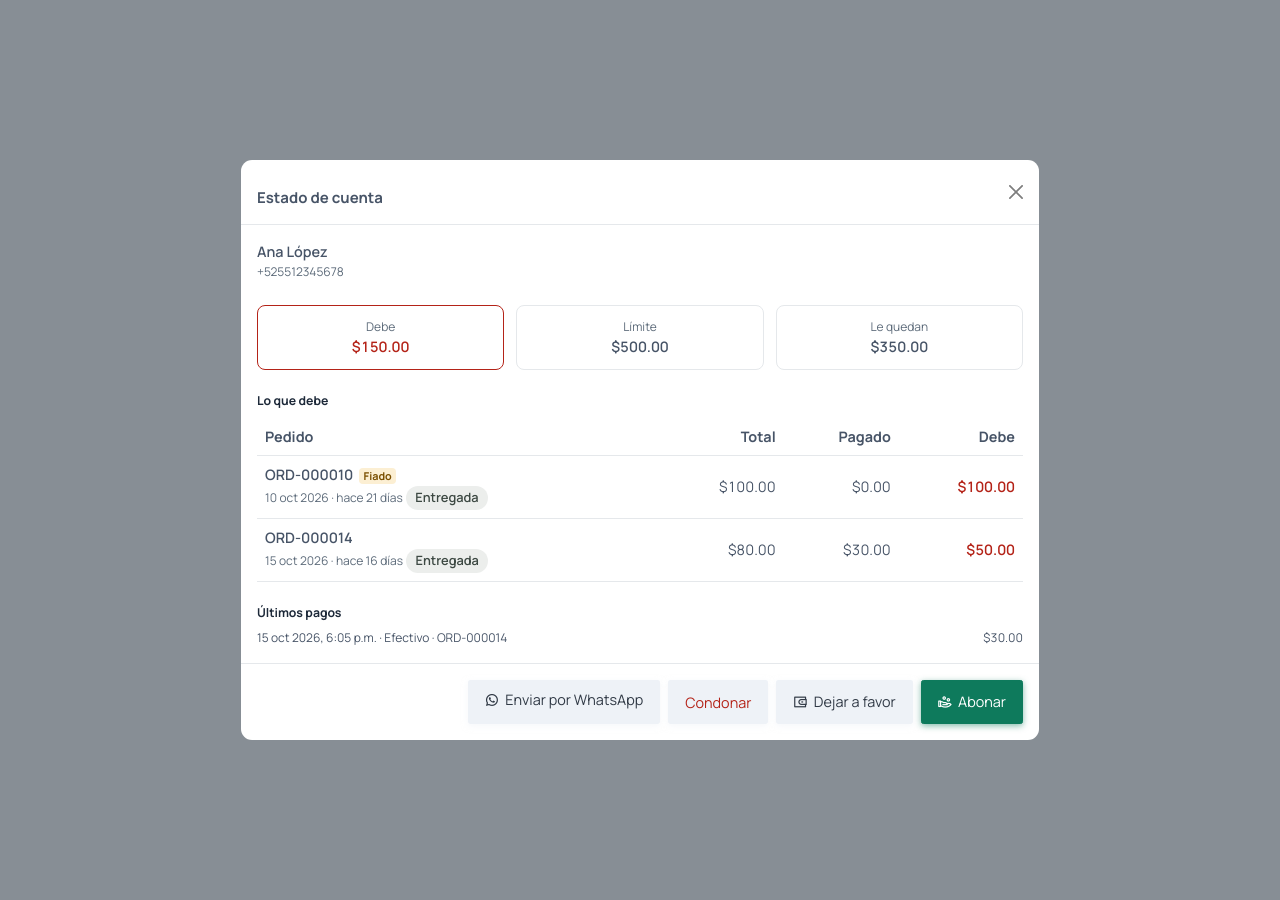
Test: CustomerAccountModal › sends what the account owed when the panel opened, so a retry after a lost answer never forgives twice
The image size is (1280, 900).
Click the button "Condonar" at coordinates (718, 702), box [668,680,768,724]
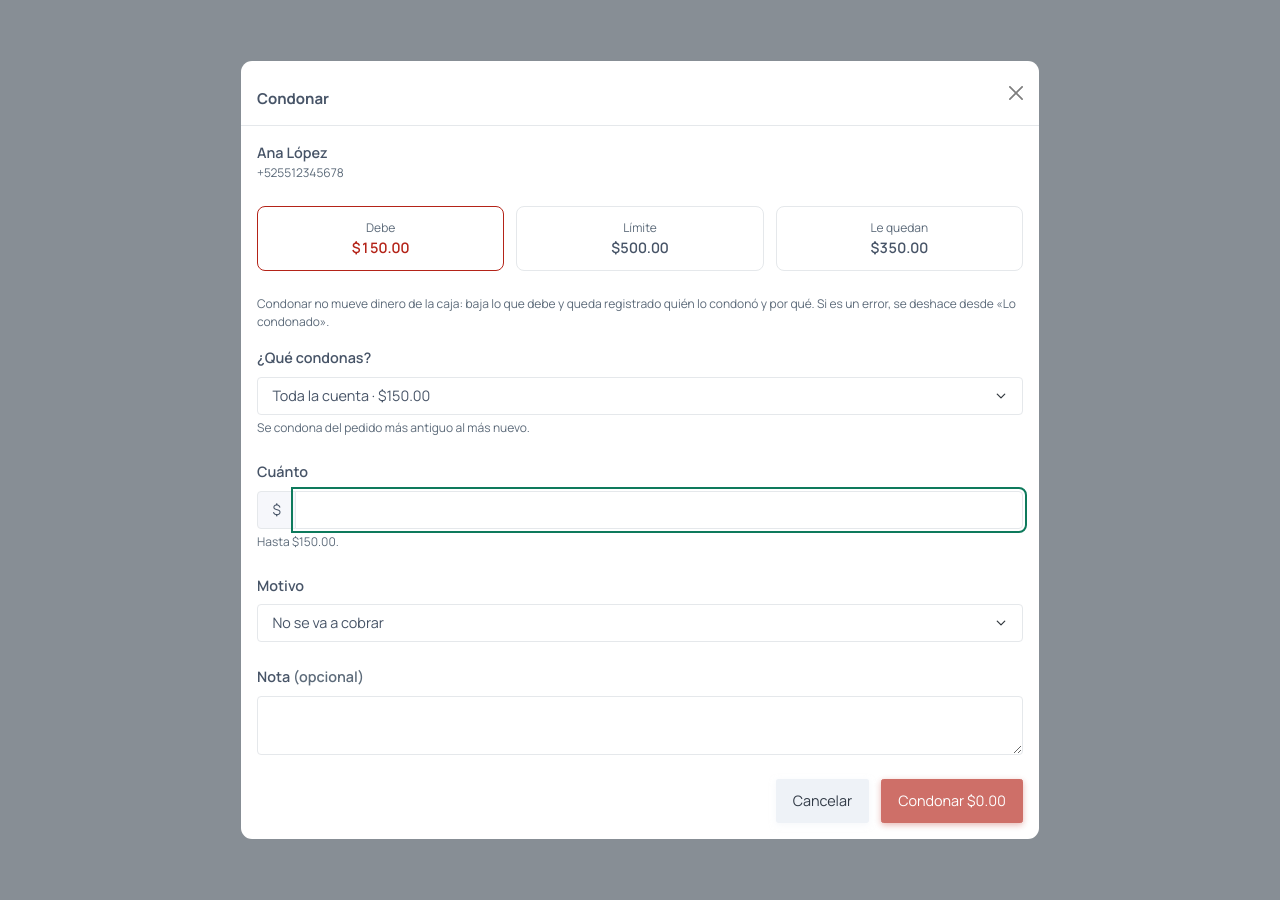
Type "100" into the field labelled "Cuánto" at coordinates (659, 510), box [295,491,1023,529]
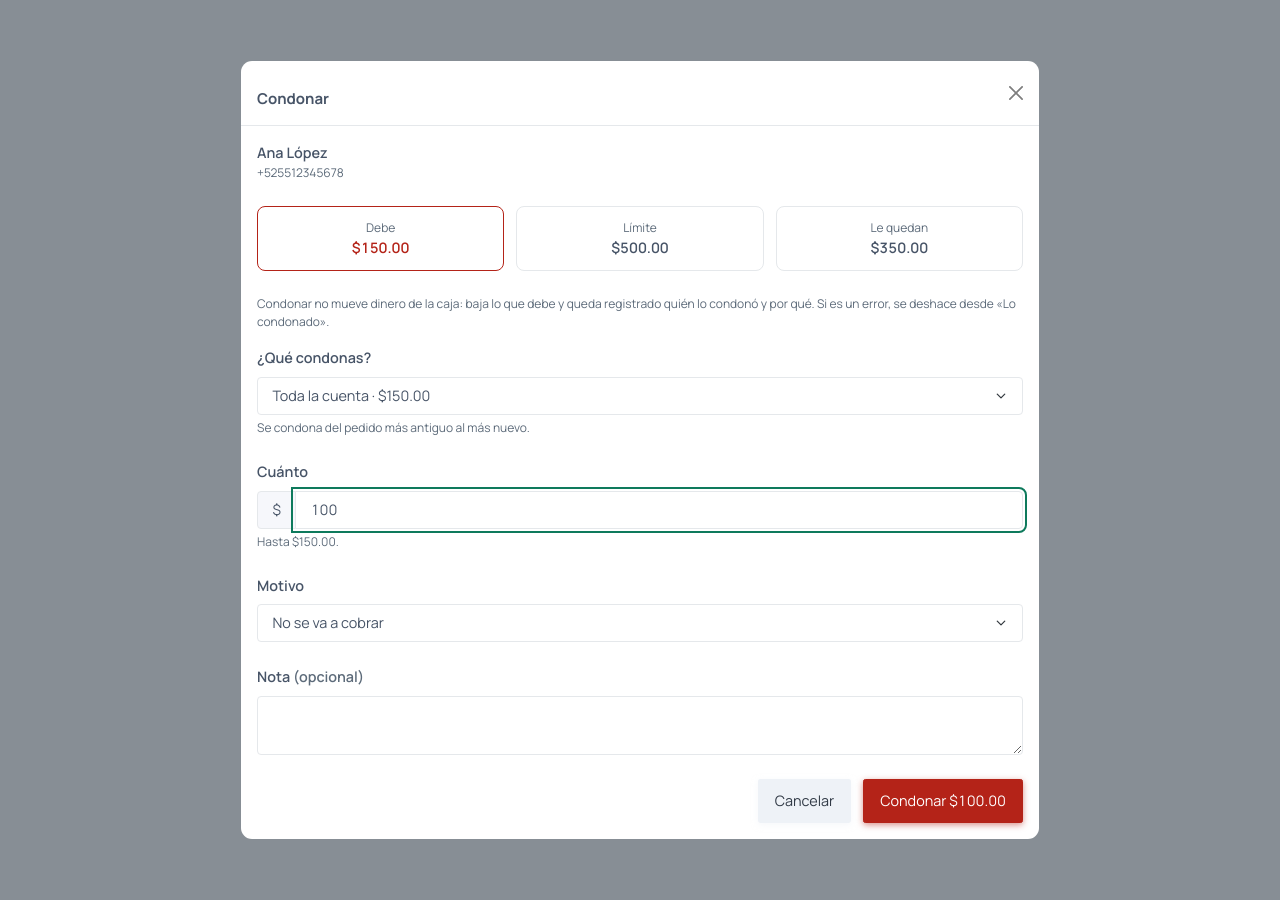
Click the button "Condonar $100.00" at coordinates (943, 801), box [863,779,1023,823]
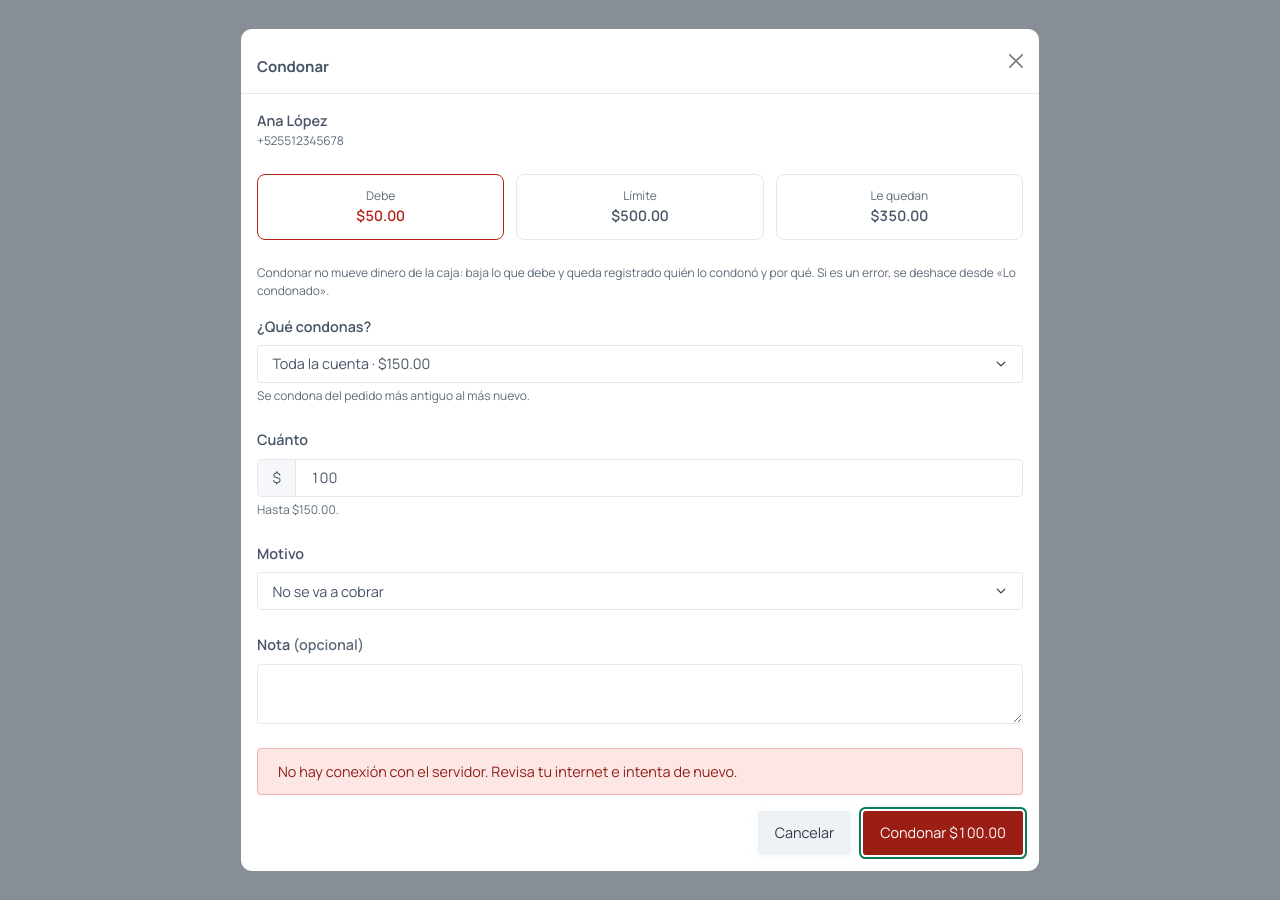
Click the button "Condonar $100.00" at coordinates (943, 833), box [863,811,1023,855]
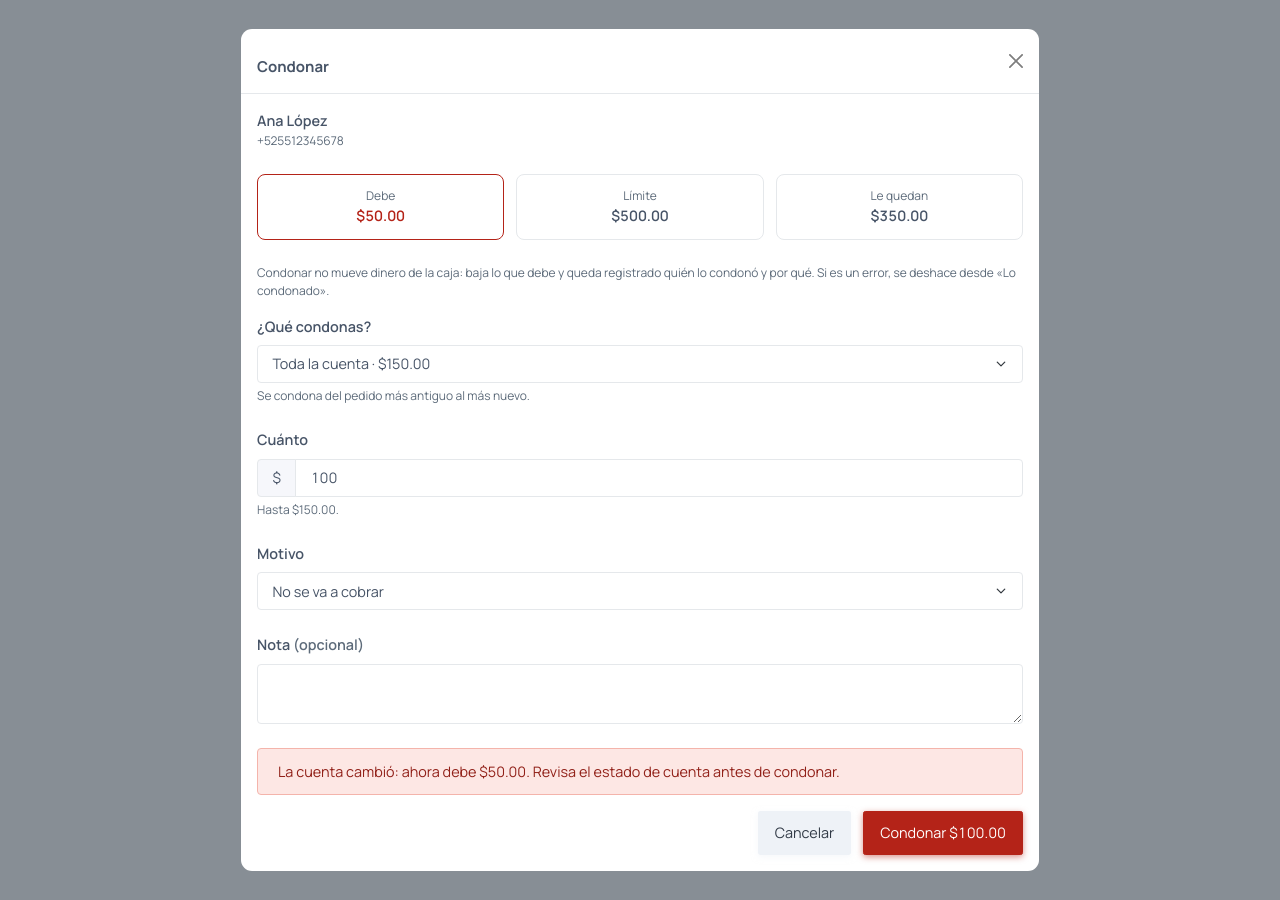
Now the text "La cuenta cambió: ahora debe $50.00" is shown, box [278,762,840,781]
